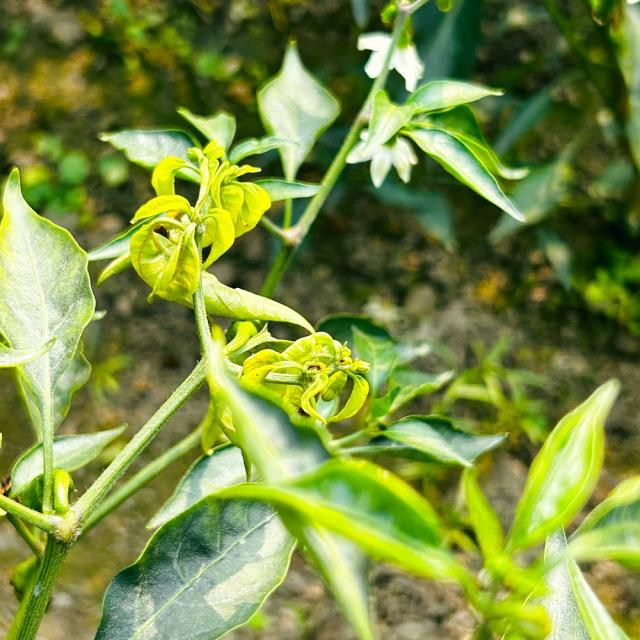Chilli_Leaf_Curl: (1, 4, 636, 638), (93, 445, 300, 638), (0, 165, 97, 523), (344, 77, 530, 224), (124, 139, 272, 306), (502, 376, 621, 556), (238, 330, 371, 428), (255, 37, 342, 182)
